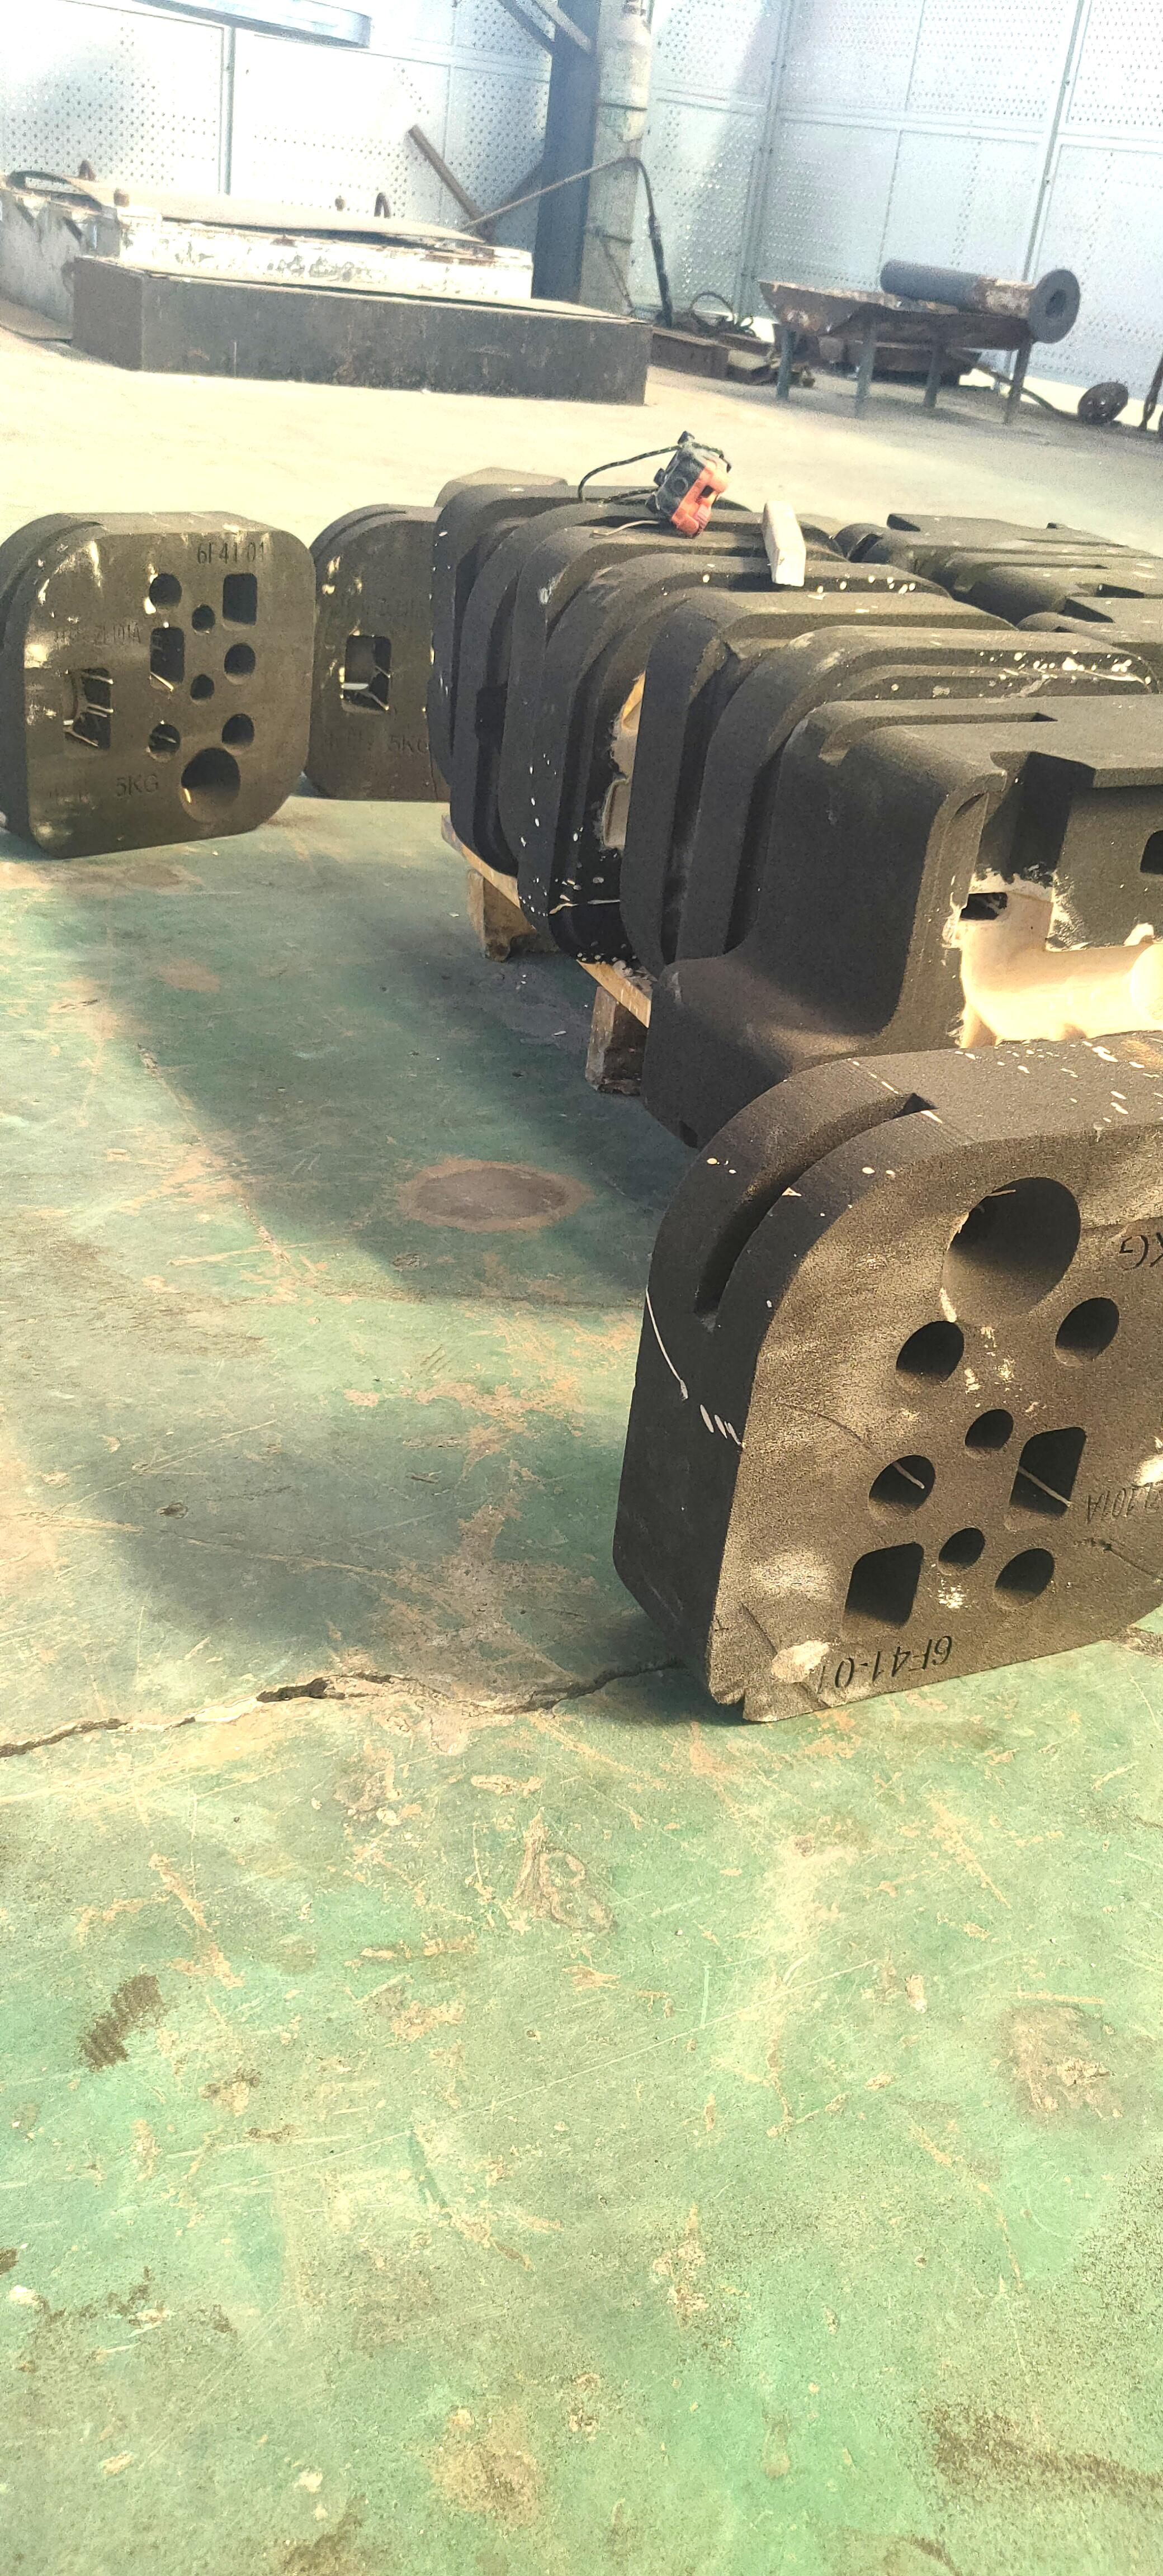pouring hole: (943, 1176, 1079, 1321), (179, 747, 241, 823)
